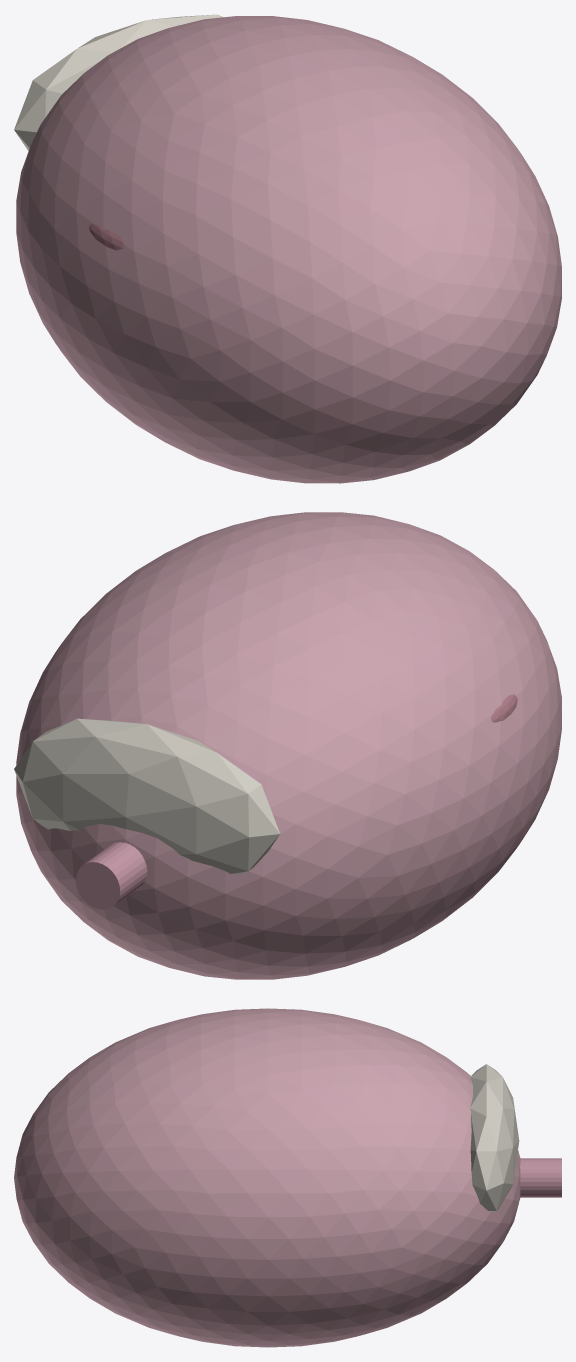
The model's file is pregnancy-t3-high.glb.
The picture shows the model from 3 angles, top to bottom: view 1: azimuth 30°, elevation 25°; view 2: azimuth 150°, elevation 25°; view 3: azimuth 270°, elevation 25°; orthographic projection. The views are drawn at different scales.
Parts seen in each view (by area): view 1: uterus, maternal_pelvis_reference_proxy; view 2: uterus, maternal_pelvis_reference_proxy, cervix_proxy; view 3: uterus, maternal_pelvis_reference_proxy, cervix_proxy.
Boxes of the visible parts, box(x1,y1,x2,y2) form: uterus: box(16, 16, 561, 483); maternal_pelvis_reference_proxy: box(14, 14, 222, 150); uterus: box(16, 512, 561, 979); maternal_pelvis_reference_proxy: box(14, 718, 279, 874); cervix_proxy: box(76, 842, 147, 909); uterus: box(14, 1008, 520, 1347); maternal_pelvis_reference_proxy: box(470, 1064, 519, 1212); cervix_proxy: box(520, 1158, 561, 1197).
Size of the model in its own units: 2.36 by 2 by 3.34.
